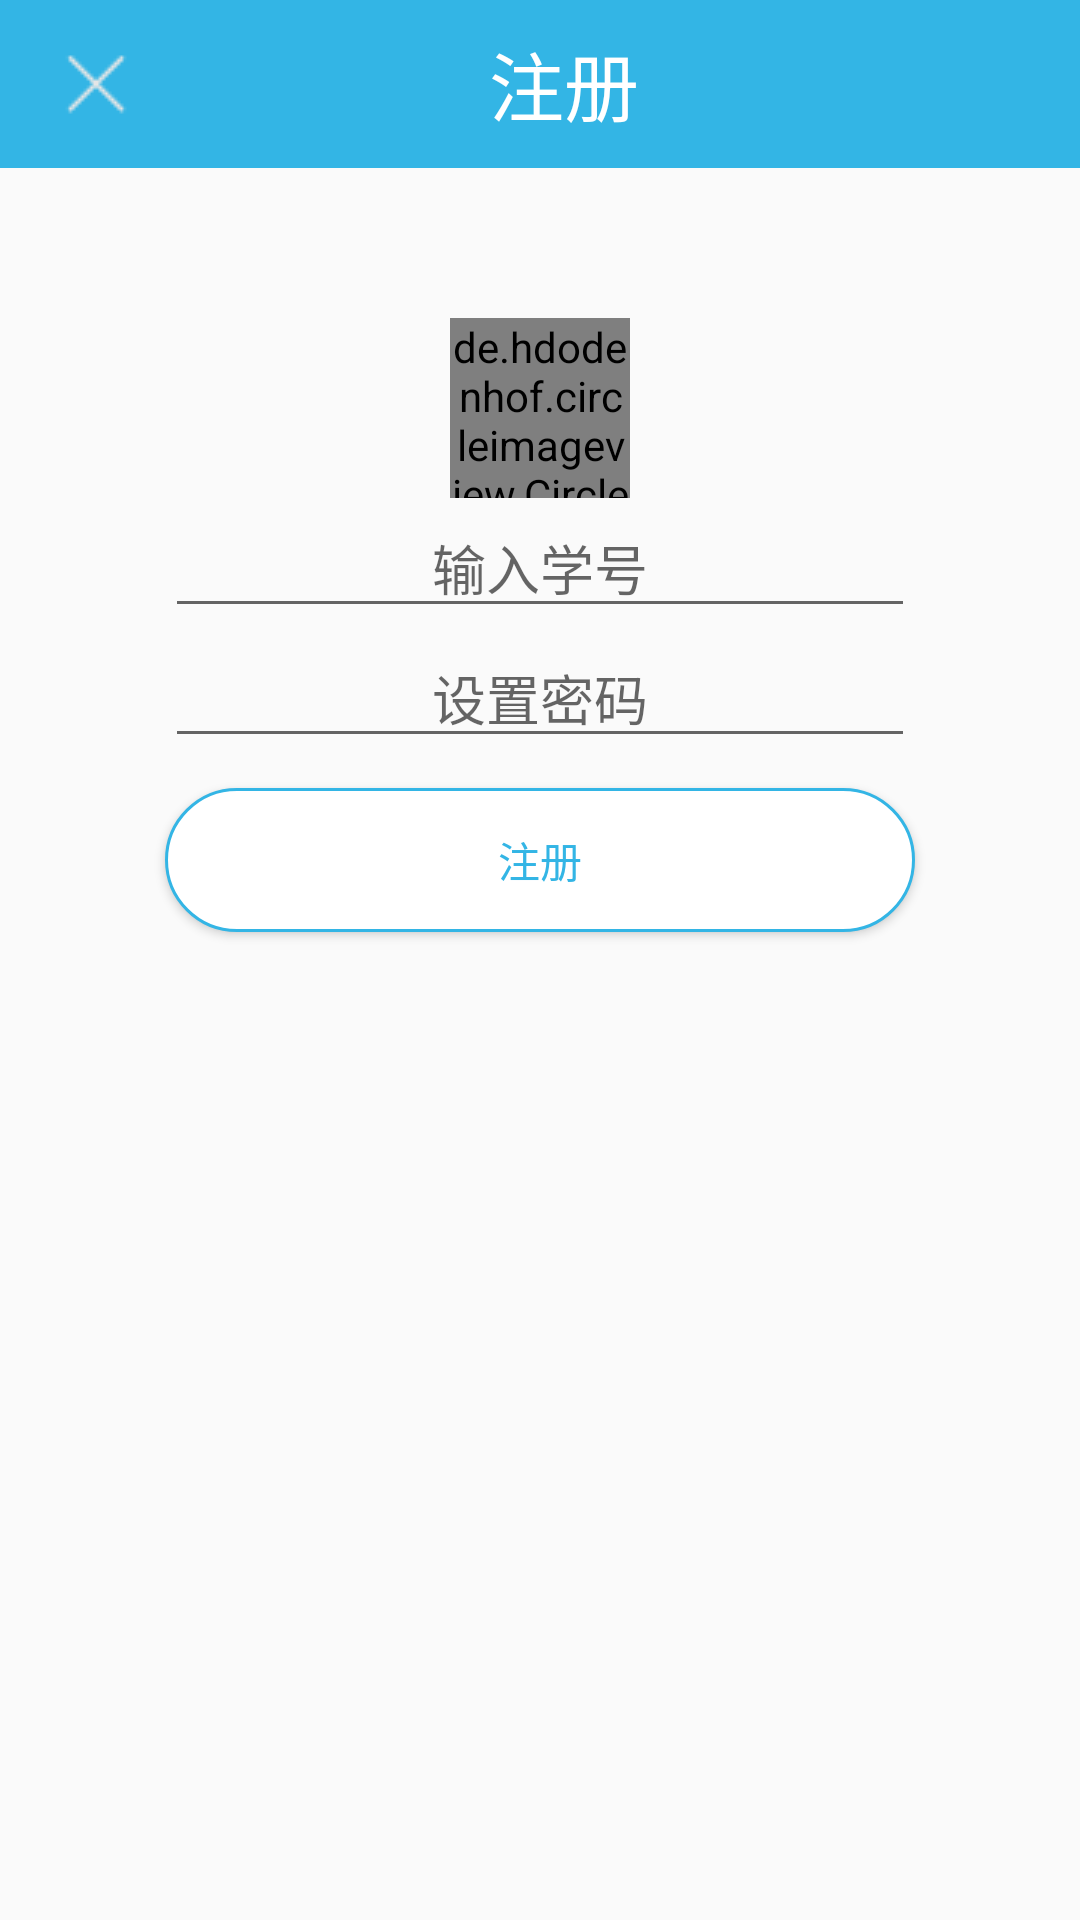

Screen size 1080 × 1920. Icon name, then its box in pixels as (x1, y1, x2, y2):
exit: (68, 55, 125, 114)
